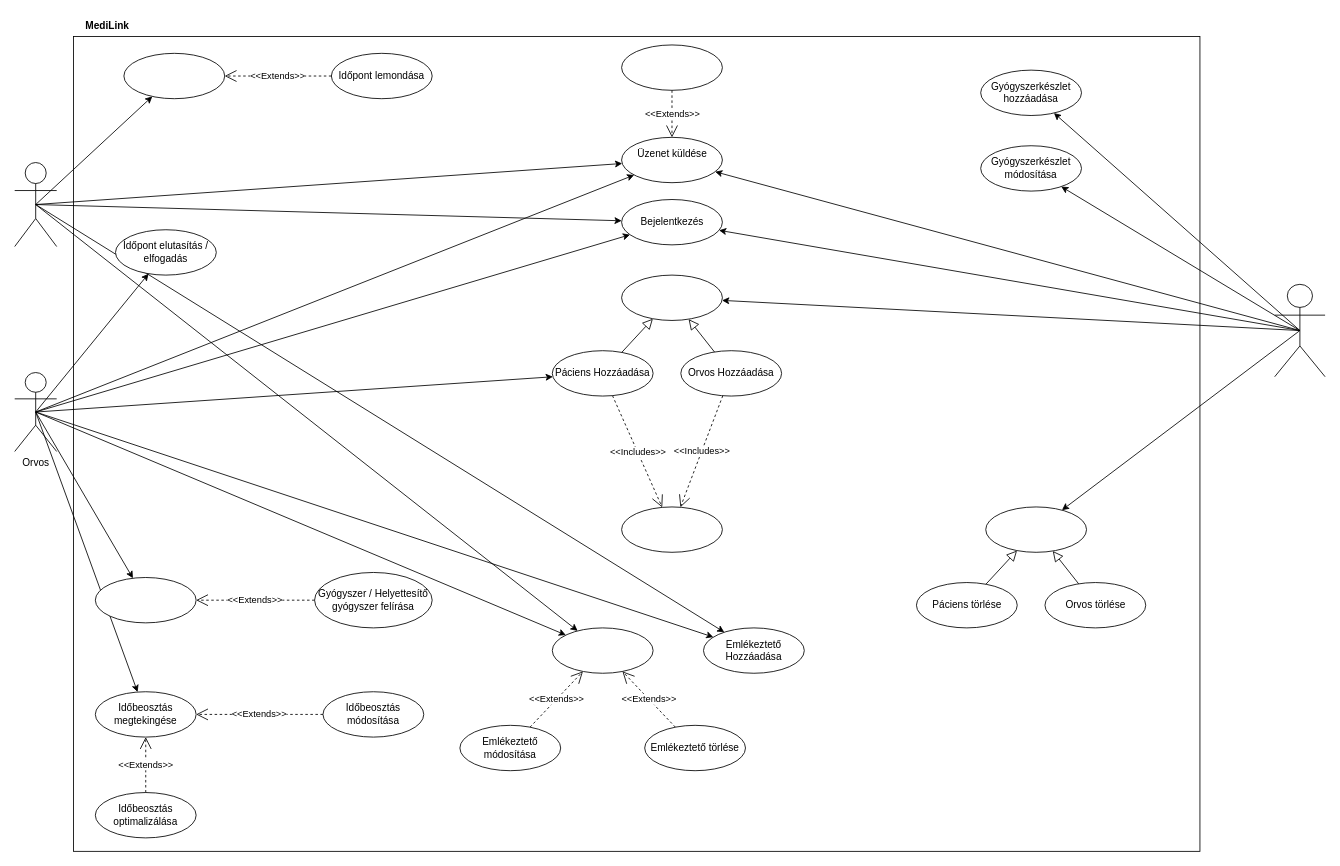
This 1340x866 diagram has some shape labels left out. Each missing label, with the centre of its shape:
"Adatok megadása" belongs at (x=671, y=529).
"Admin" belongs at (x=1299, y=330).
"Diagnózis Felállítása" belongs at (x=145, y=600).
"Emlékeztetők listázása" belongs at (x=602, y=650).
"Felhasználó hozzáadása" belongs at (x=671, y=297).
"Felhasználó törlése" belongs at (x=1036, y=529).
"Időpont igénylés" belongs at (x=174, y=75).
"Páciens" belongs at (x=35, y=204).
"Válasz üzenet küldése" belongs at (x=671, y=67).
